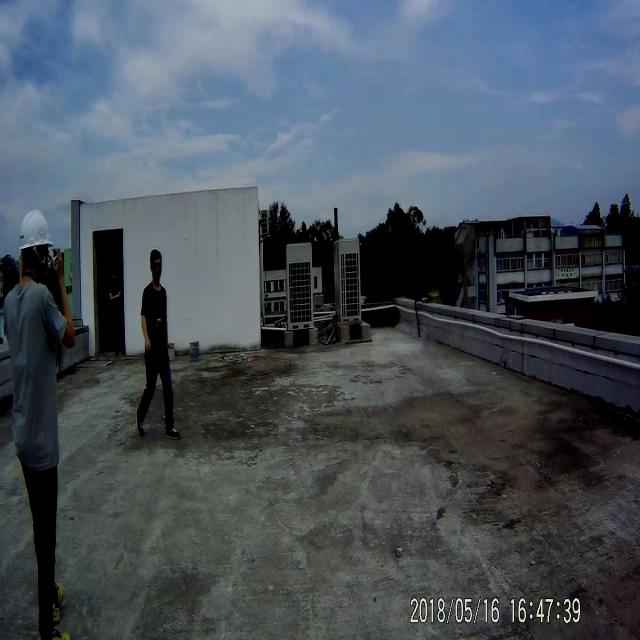hand_noglove: (47, 247, 68, 284), (143, 334, 152, 354)
head_helmet: (13, 208, 59, 257)
head_nohelmet: (149, 243, 165, 264)
person: (2, 209, 82, 638), (136, 241, 187, 444)
shoes: (163, 420, 180, 446), (133, 408, 145, 437)
